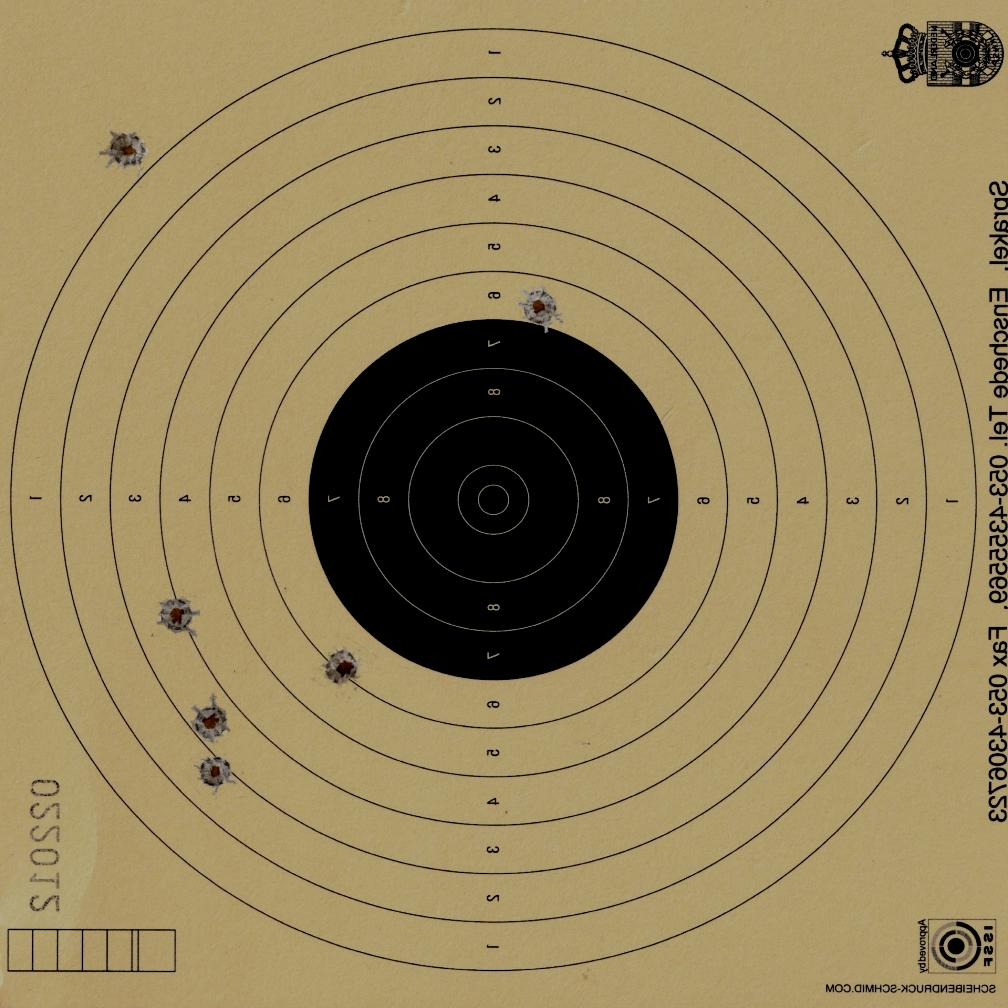0: (97, 125, 149, 179)
3: (188, 694, 232, 744), (193, 756, 238, 797)
4: (156, 596, 202, 636)
6: (322, 646, 362, 688)
7: (514, 286, 564, 335)
Target: (8, 24, 982, 980)
black_contour: (311, 320, 679, 682)
